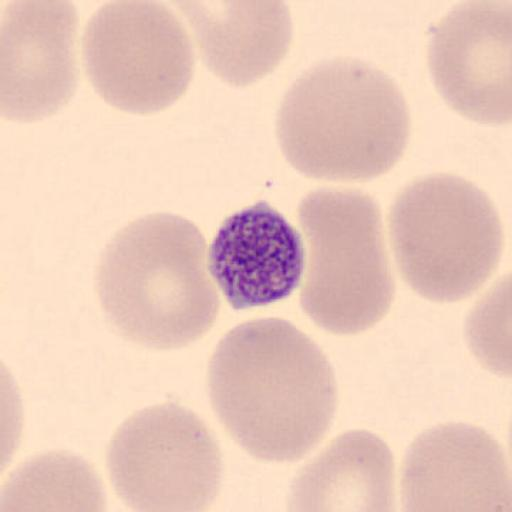Platelet: (205, 199, 310, 313)
RBC: (206, 314, 340, 466), (92, 209, 220, 352), (273, 54, 413, 184), (387, 172, 503, 306), (295, 184, 395, 335), (103, 399, 226, 512), (78, 0, 196, 117), (160, 0, 295, 89), (424, 0, 512, 126), (397, 419, 512, 512), (1, 0, 81, 126), (284, 427, 398, 512), (1, 448, 109, 512), (463, 274, 512, 381), (1, 363, 25, 479)
